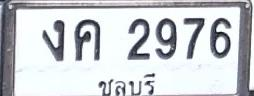2: (126, 18, 150, 60)
6: (210, 17, 232, 58)
7: (182, 16, 204, 60)
9: (154, 17, 176, 59)
A04: (74, 18, 101, 61)
A07: (42, 19, 64, 61)
CBI: (93, 71, 158, 96)
